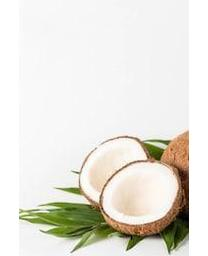coconut: (99, 159, 184, 236), (76, 136, 159, 209)
